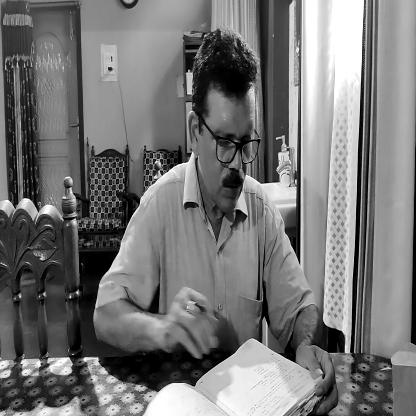Normal: (186, 33, 259, 224)
